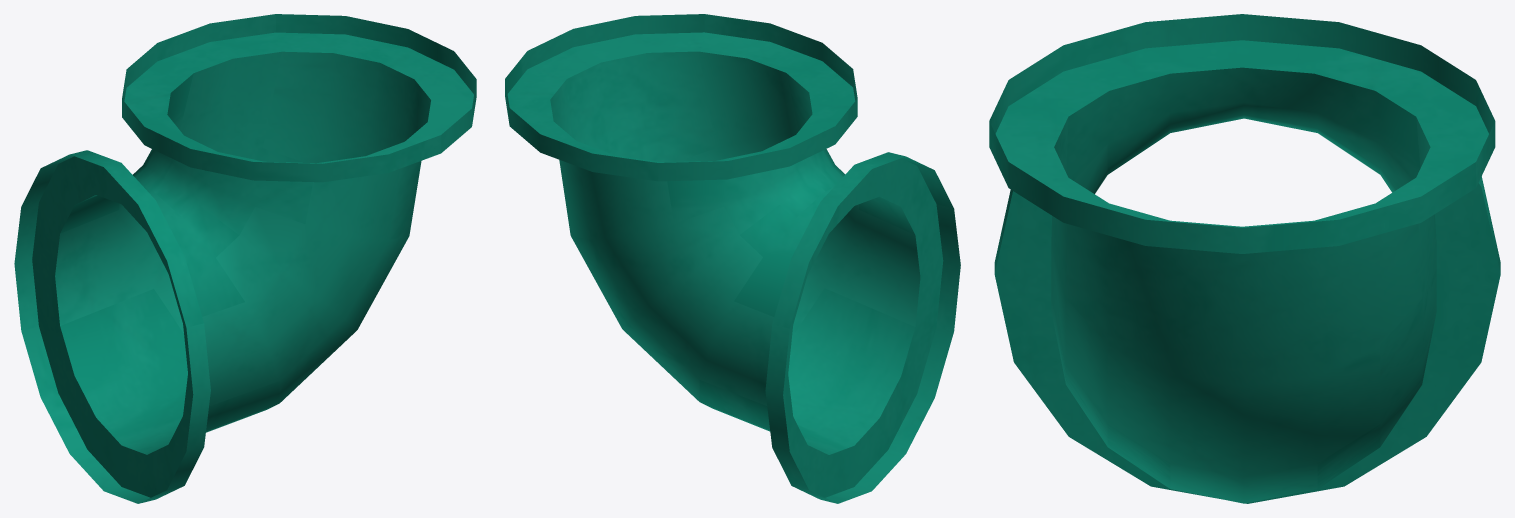
Rendered from pipeElbowBig.fbx.
3 renders of one model, left to right at view 1: azimuth 30°, elevation 25°; view 2: azimuth 150°, elevation 25°; view 3: azimuth 270°, elevation 25°, orthographic. The views are drawn at different scales.
Parts seen in each view (by area): view 1: pipeElbowBig; view 2: pipeElbowBig; view 3: pipeElbowBig.
Boxes of the visible parts, x1,y1,x2,y2 form: pipeElbowBig: (14, 14, 476, 503); pipeElbowBig: (505, 14, 960, 503); pipeElbowBig: (989, 14, 1500, 503).
Bounding box in the file's own units: 0.7249 × 0.7088 × 0.6512.
